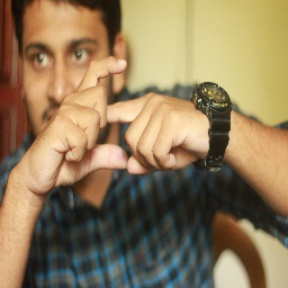E: (64, 59, 154, 179)
